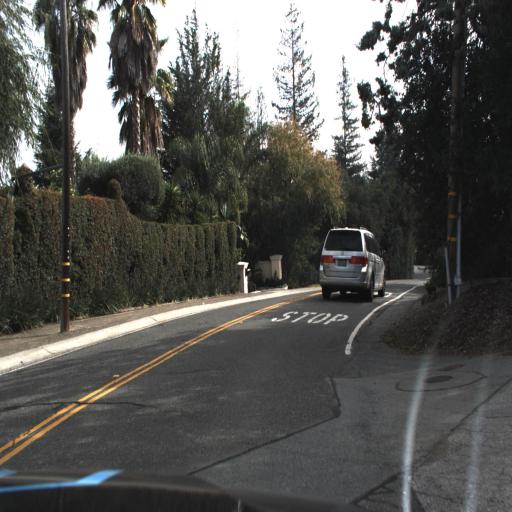car: (300, 223, 395, 300)
